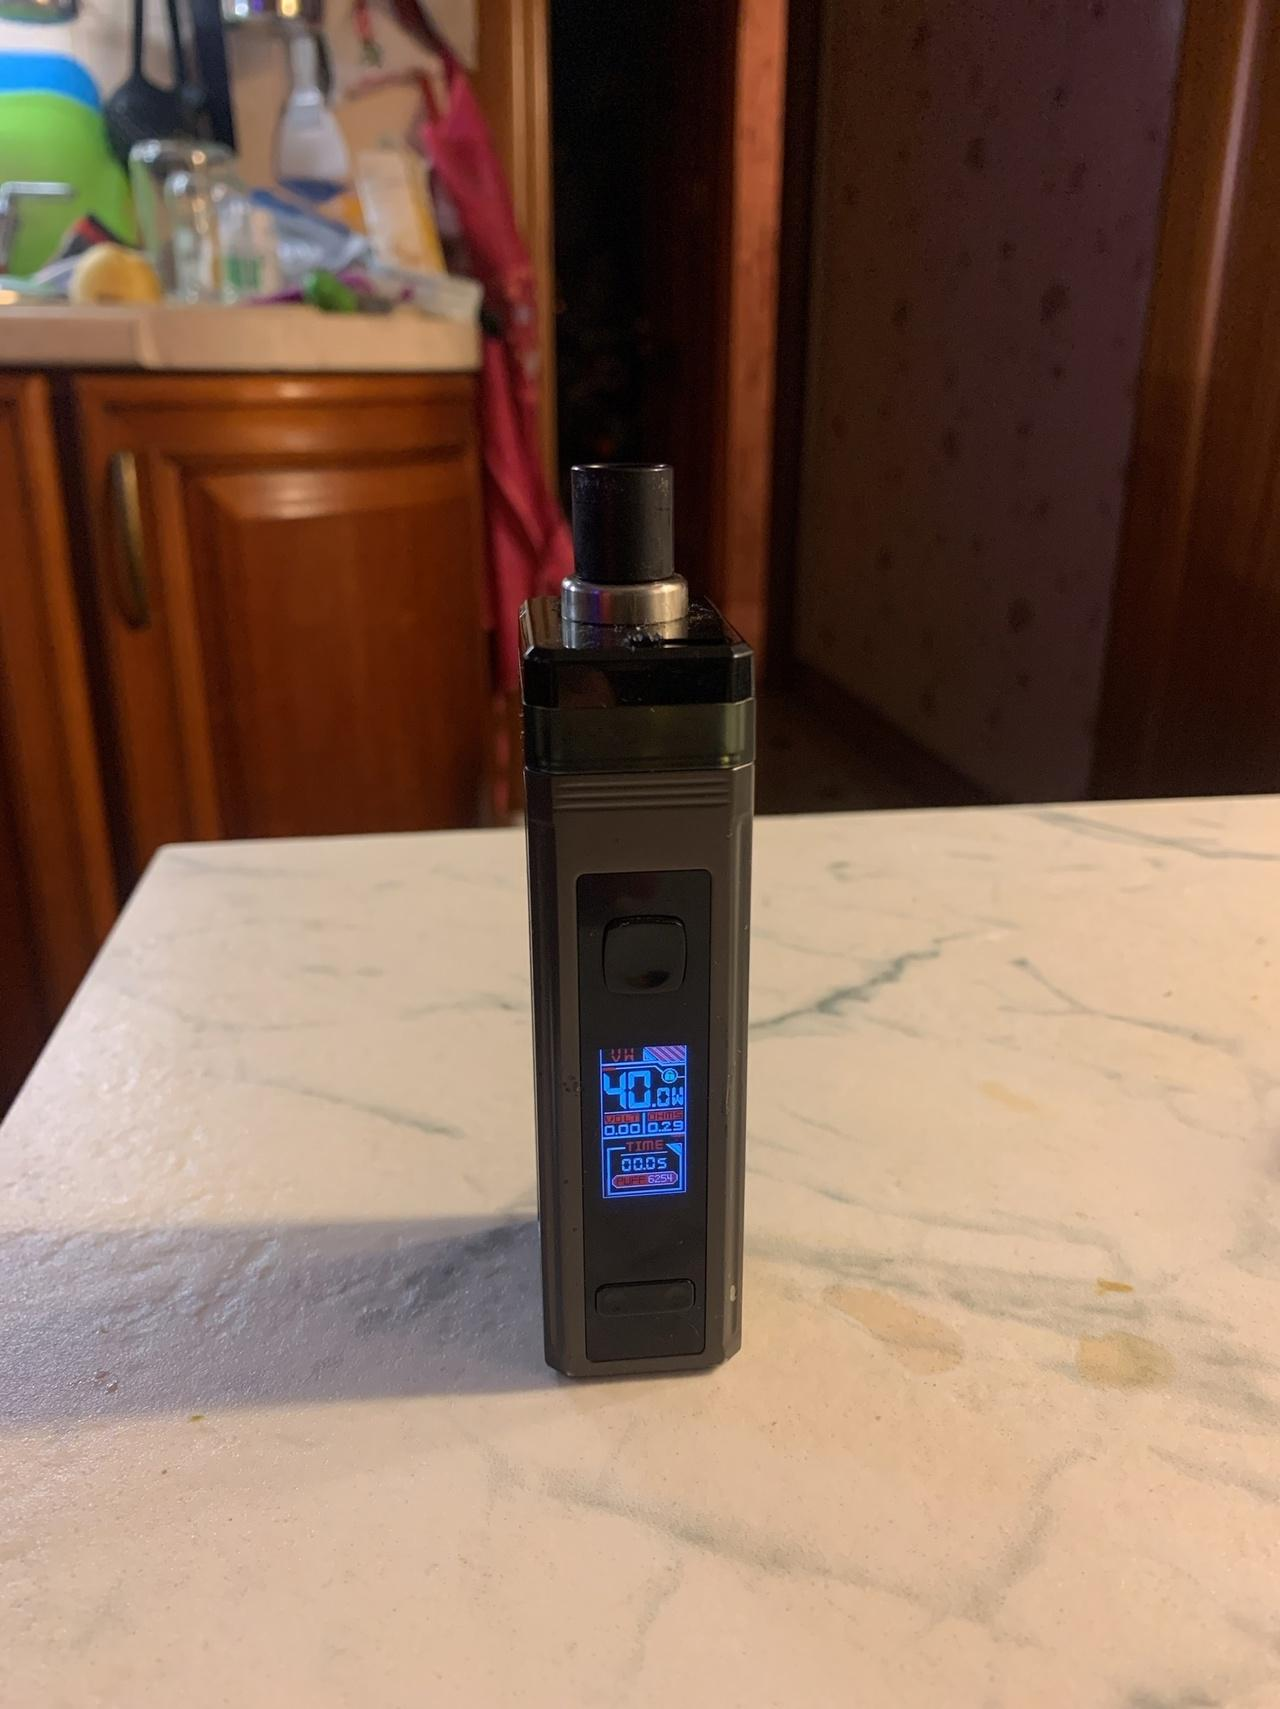Vape: (520, 463, 756, 1377)
